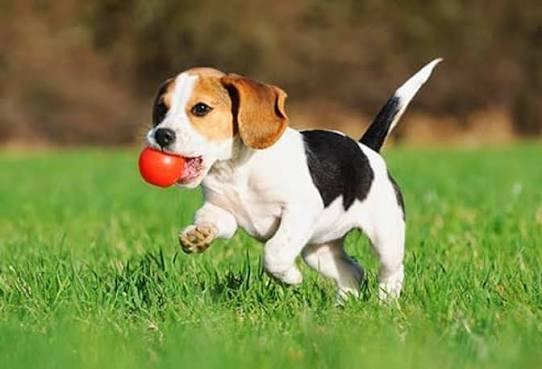puppy-dog: (144, 56, 444, 311)
